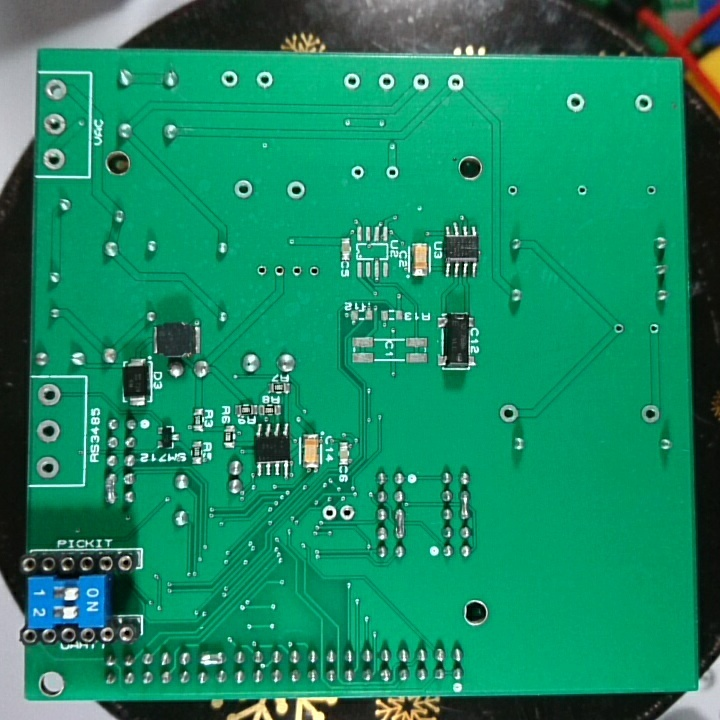F: (43, 75, 71, 105), (35, 451, 61, 483), (34, 382, 64, 409), (35, 418, 62, 446), (638, 400, 664, 429), (41, 146, 67, 173), (443, 69, 467, 98), (497, 399, 520, 426), (253, 66, 275, 94), (341, 67, 363, 94), (233, 177, 255, 203), (43, 112, 65, 138), (565, 92, 588, 116), (284, 180, 308, 202), (632, 93, 655, 115), (376, 70, 398, 92), (220, 68, 240, 92), (338, 501, 357, 525), (319, 503, 338, 526), (411, 71, 429, 95), (646, 319, 666, 338), (349, 163, 368, 183), (384, 163, 401, 183), (575, 183, 591, 200), (506, 183, 522, 198), (289, 264, 304, 280), (611, 321, 628, 335), (254, 262, 268, 279), (644, 183, 659, 198), (306, 264, 322, 278), (272, 263, 286, 278)
P: (196, 649, 227, 669), (392, 508, 409, 540), (102, 472, 118, 506), (457, 488, 473, 521)
